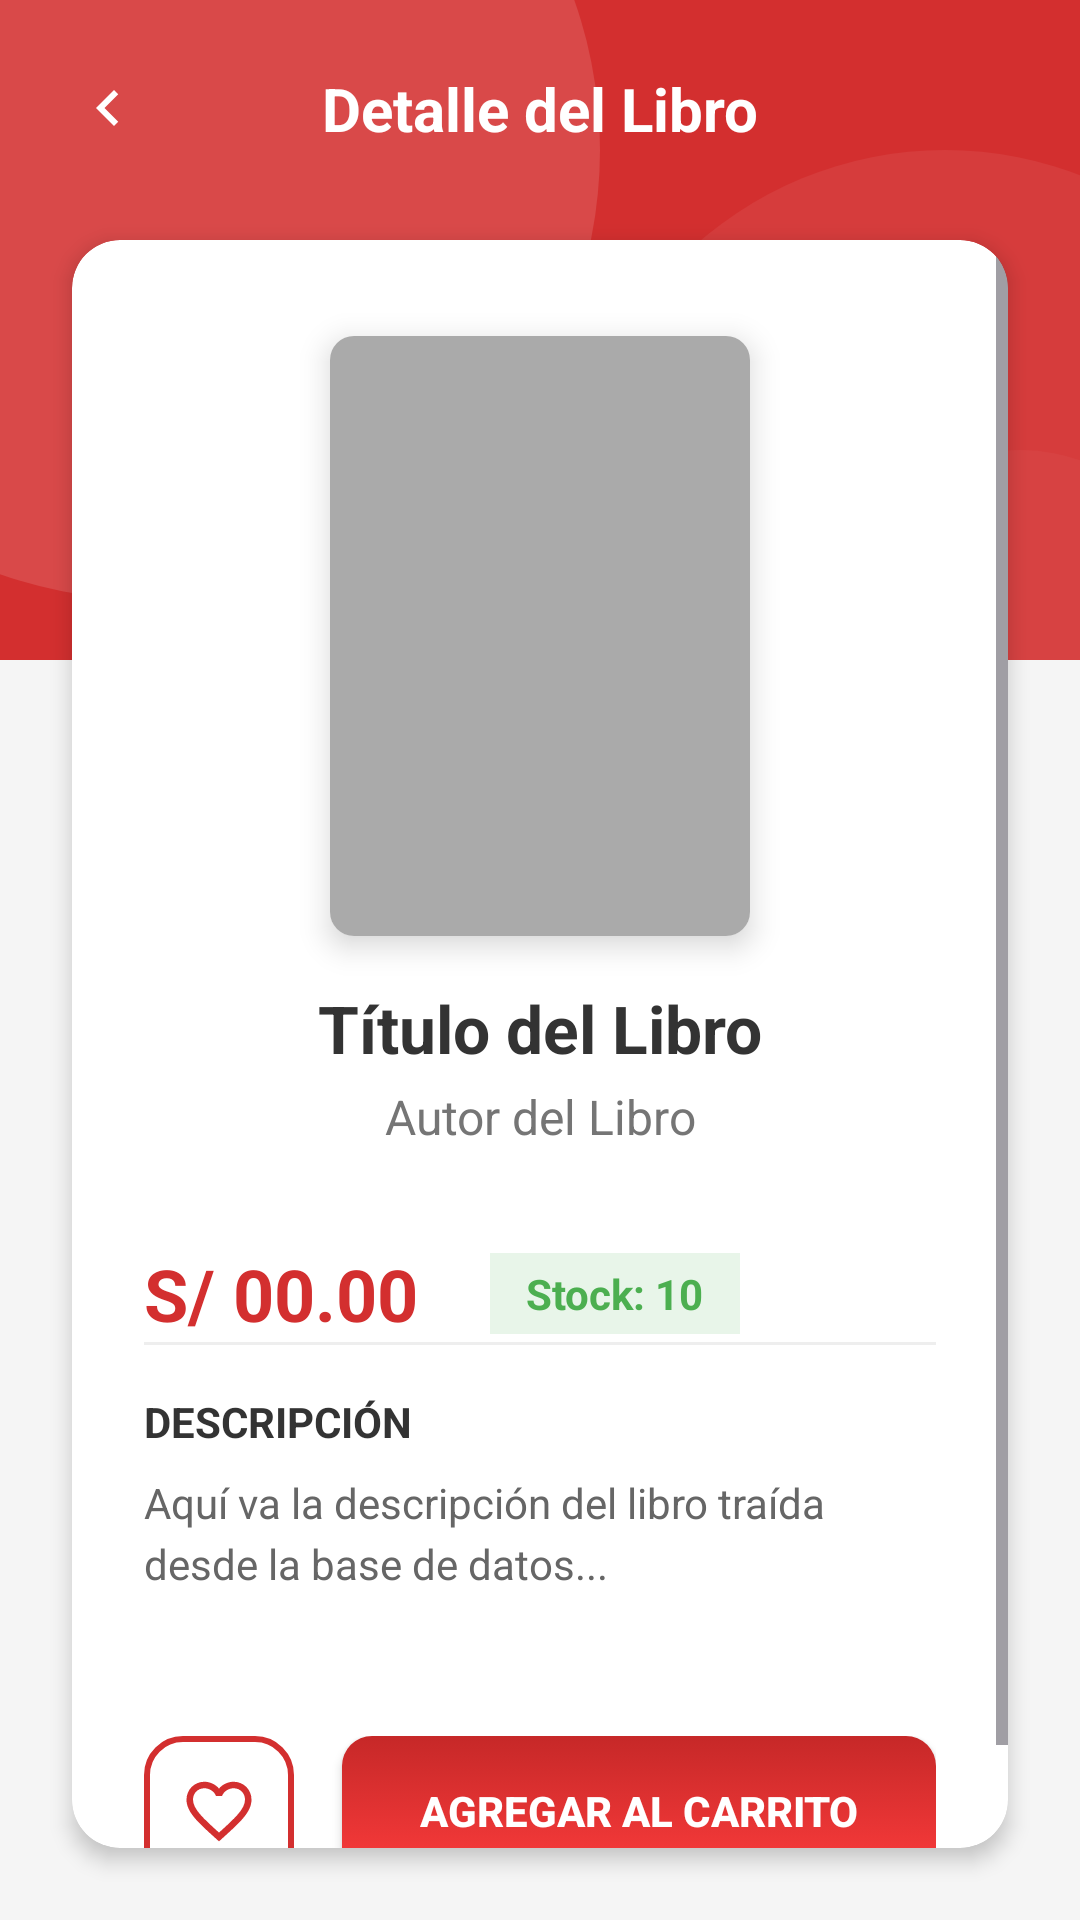

Screen size 1080×1920. Icon name, then its center in pixels as [x,y]:
heart: [219,1811]
